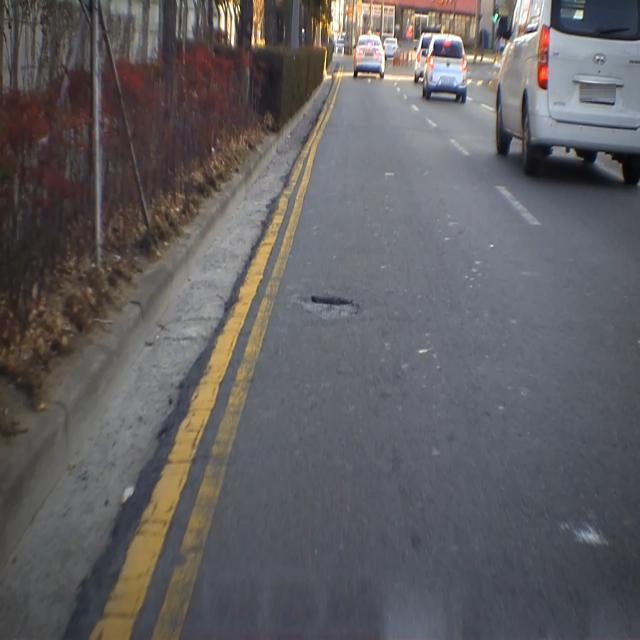pothole: (286, 283, 364, 329)
